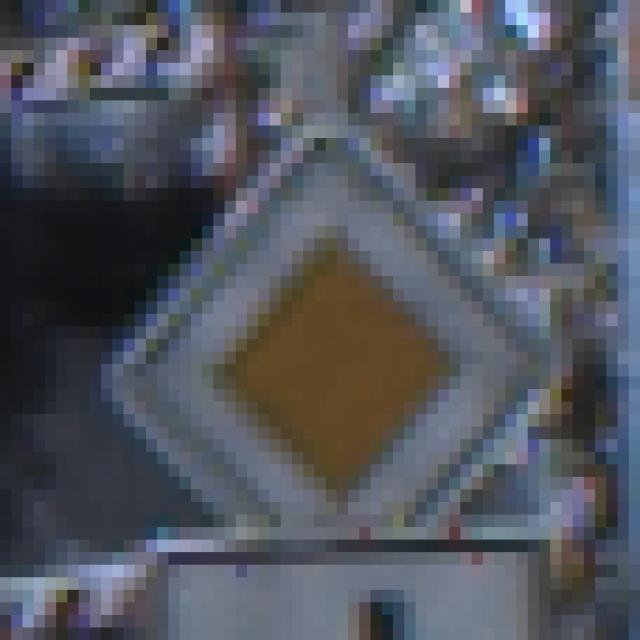Main Road: (68, 77, 585, 579)
